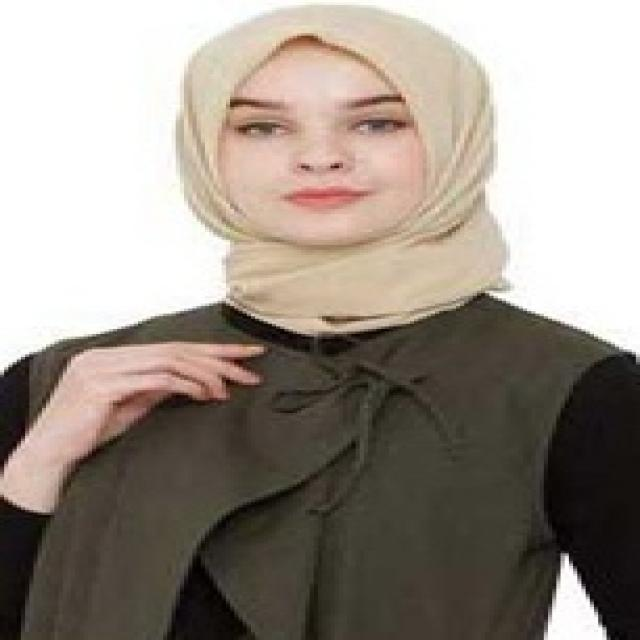head: (178, 4, 509, 255)
